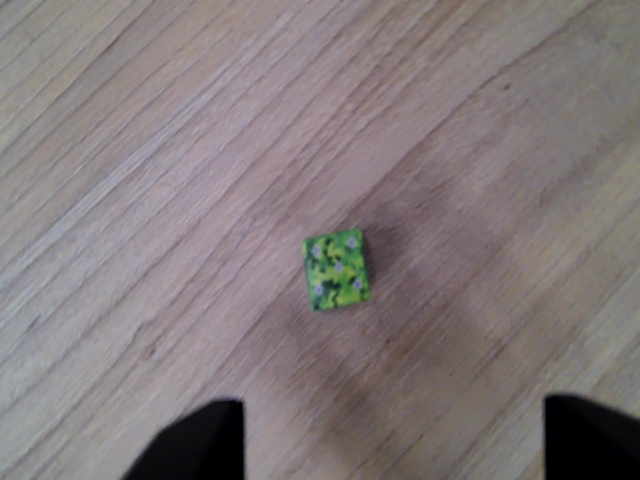grass: (298, 228, 373, 313)
